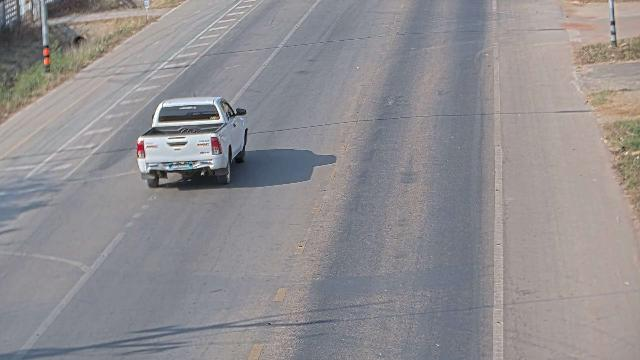pickup-truck: (135, 95, 248, 188)
